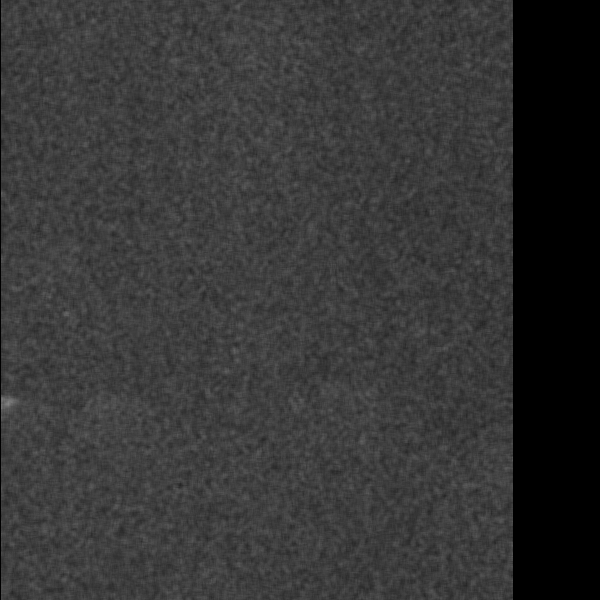spark: (433, 428, 454, 477)
